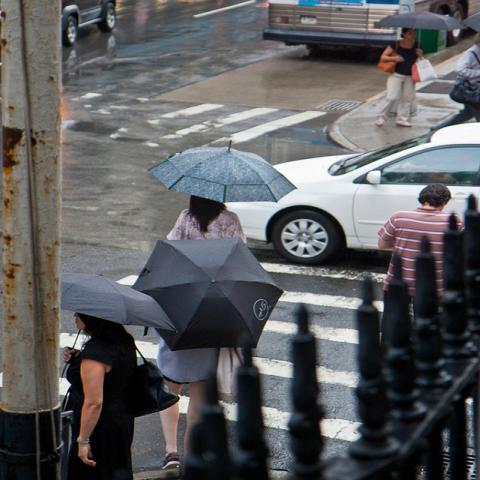bus: (263, 3, 479, 43)
car: (227, 123, 479, 258), (62, 0, 119, 46)
